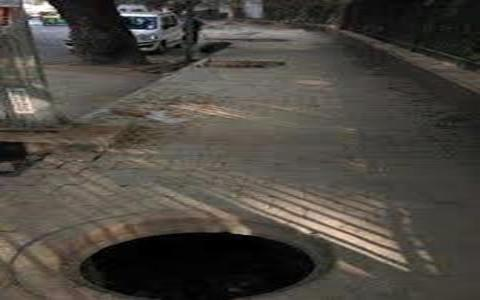open manhole: (34, 206, 339, 299)
